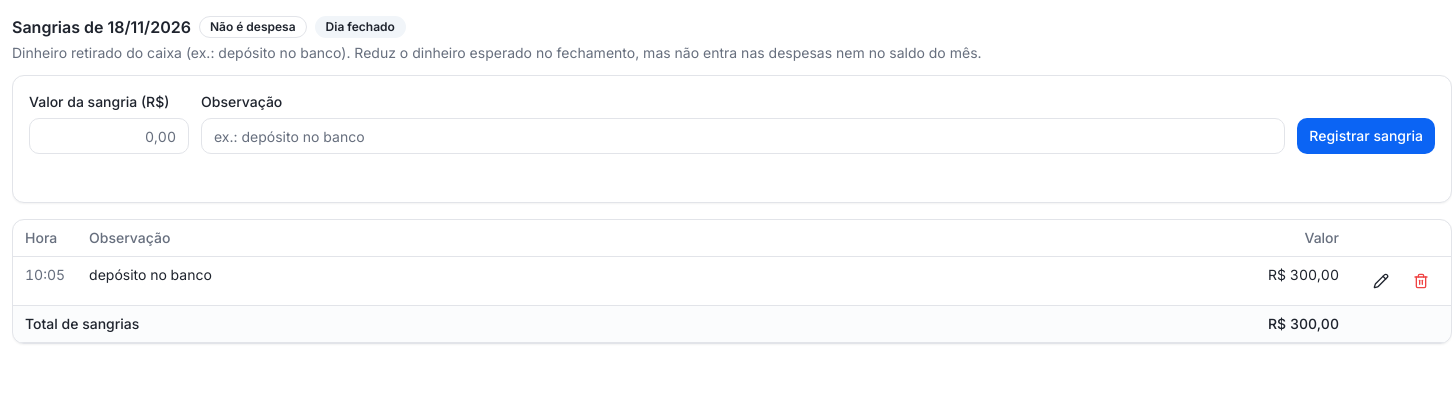
Test case: FR-07: sangrias on the Despesas page › FR-07: a message about one day is cleared when the page moves to another day
Click the button named "Editar sangria".
click(1381, 280)  # box [1363,264,1399,296]
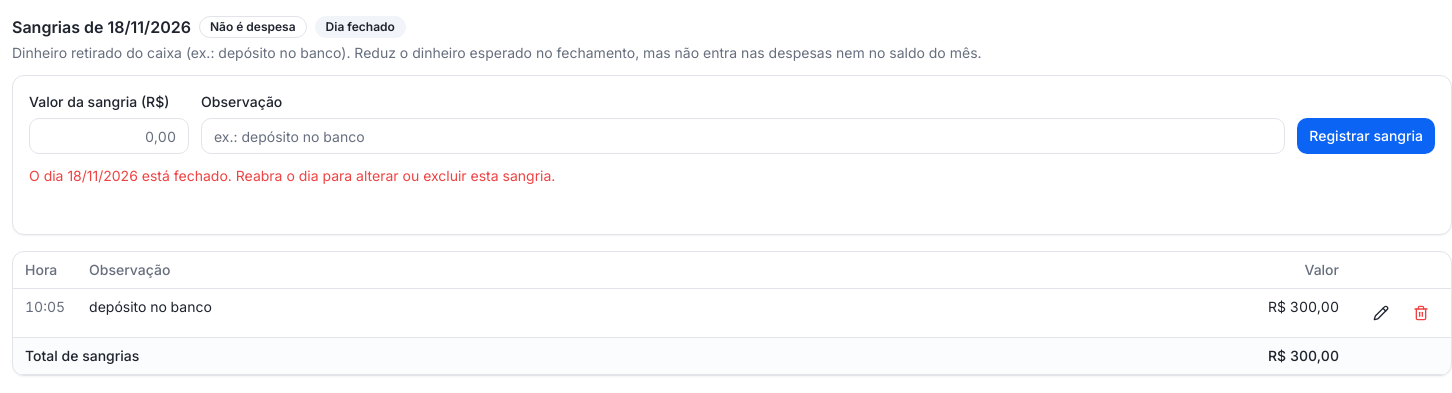
Now the 1st message shows "está fechado", box [29,167,555,184]
